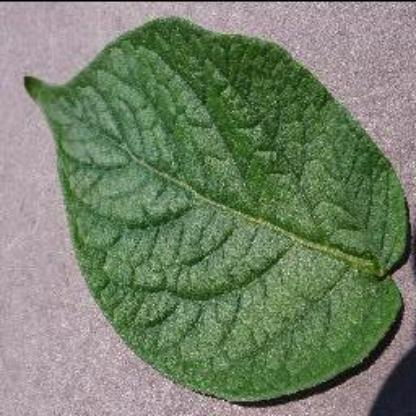Healthy-plant: (21, 11, 406, 403)
